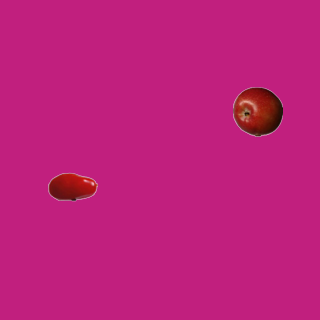Apple Braeburn: (232, 86, 282, 136)
Tomato 2: (47, 161, 97, 211)
